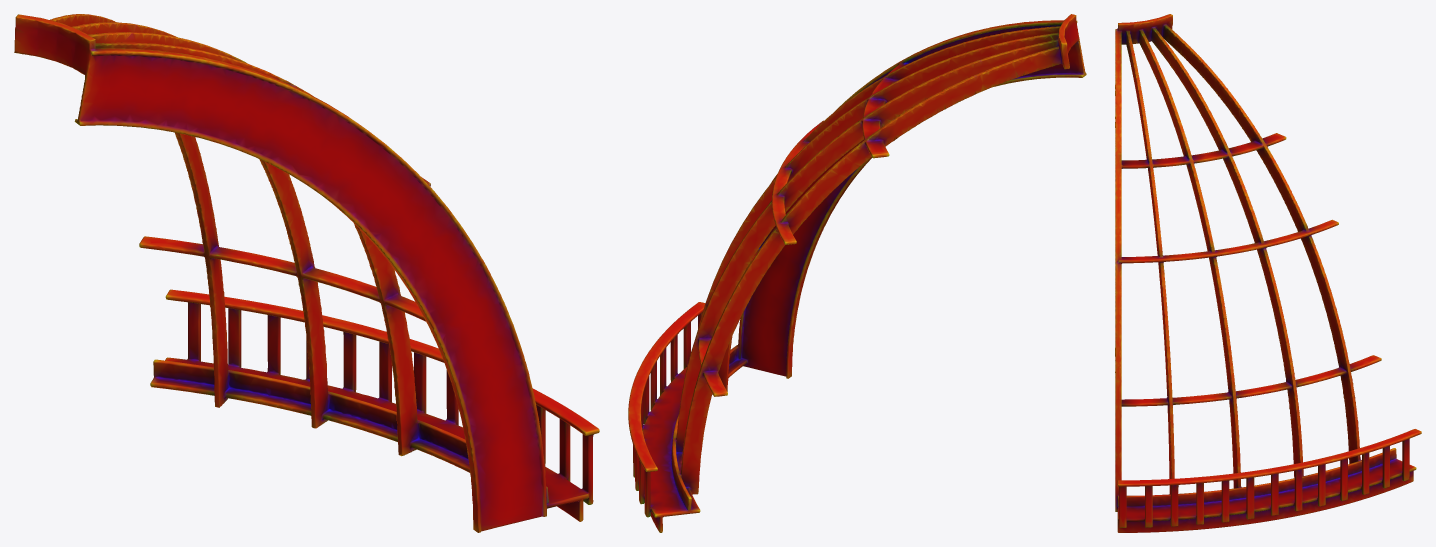
Rendered from Dome.fbx.
The picture shows the model from 3 angles, left to right: view 1: azimuth 30°, elevation 25°; view 2: azimuth 150°, elevation 25°; view 3: azimuth 270°, elevation 25°; orthographic projection. The views are drawn at different scales.
Visible parts, largest first — view 1: transform1; view 2: transform1; view 3: transform1.
Part boxes in pixels (x1,y1,x2,y2): transform1: (14,14,599,532); transform1: (628,14,1086,532); transform1: (1115,14,1421,532).
Size of the model in its own units: 972 by 783 by 1027.
